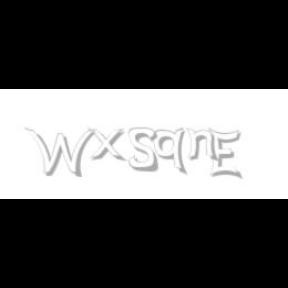E: (208, 128, 242, 180)
S: (128, 128, 160, 172)
W: (24, 128, 96, 178)
n: (186, 128, 220, 162)
q: (153, 128, 189, 176)
x: (88, 128, 130, 162)
